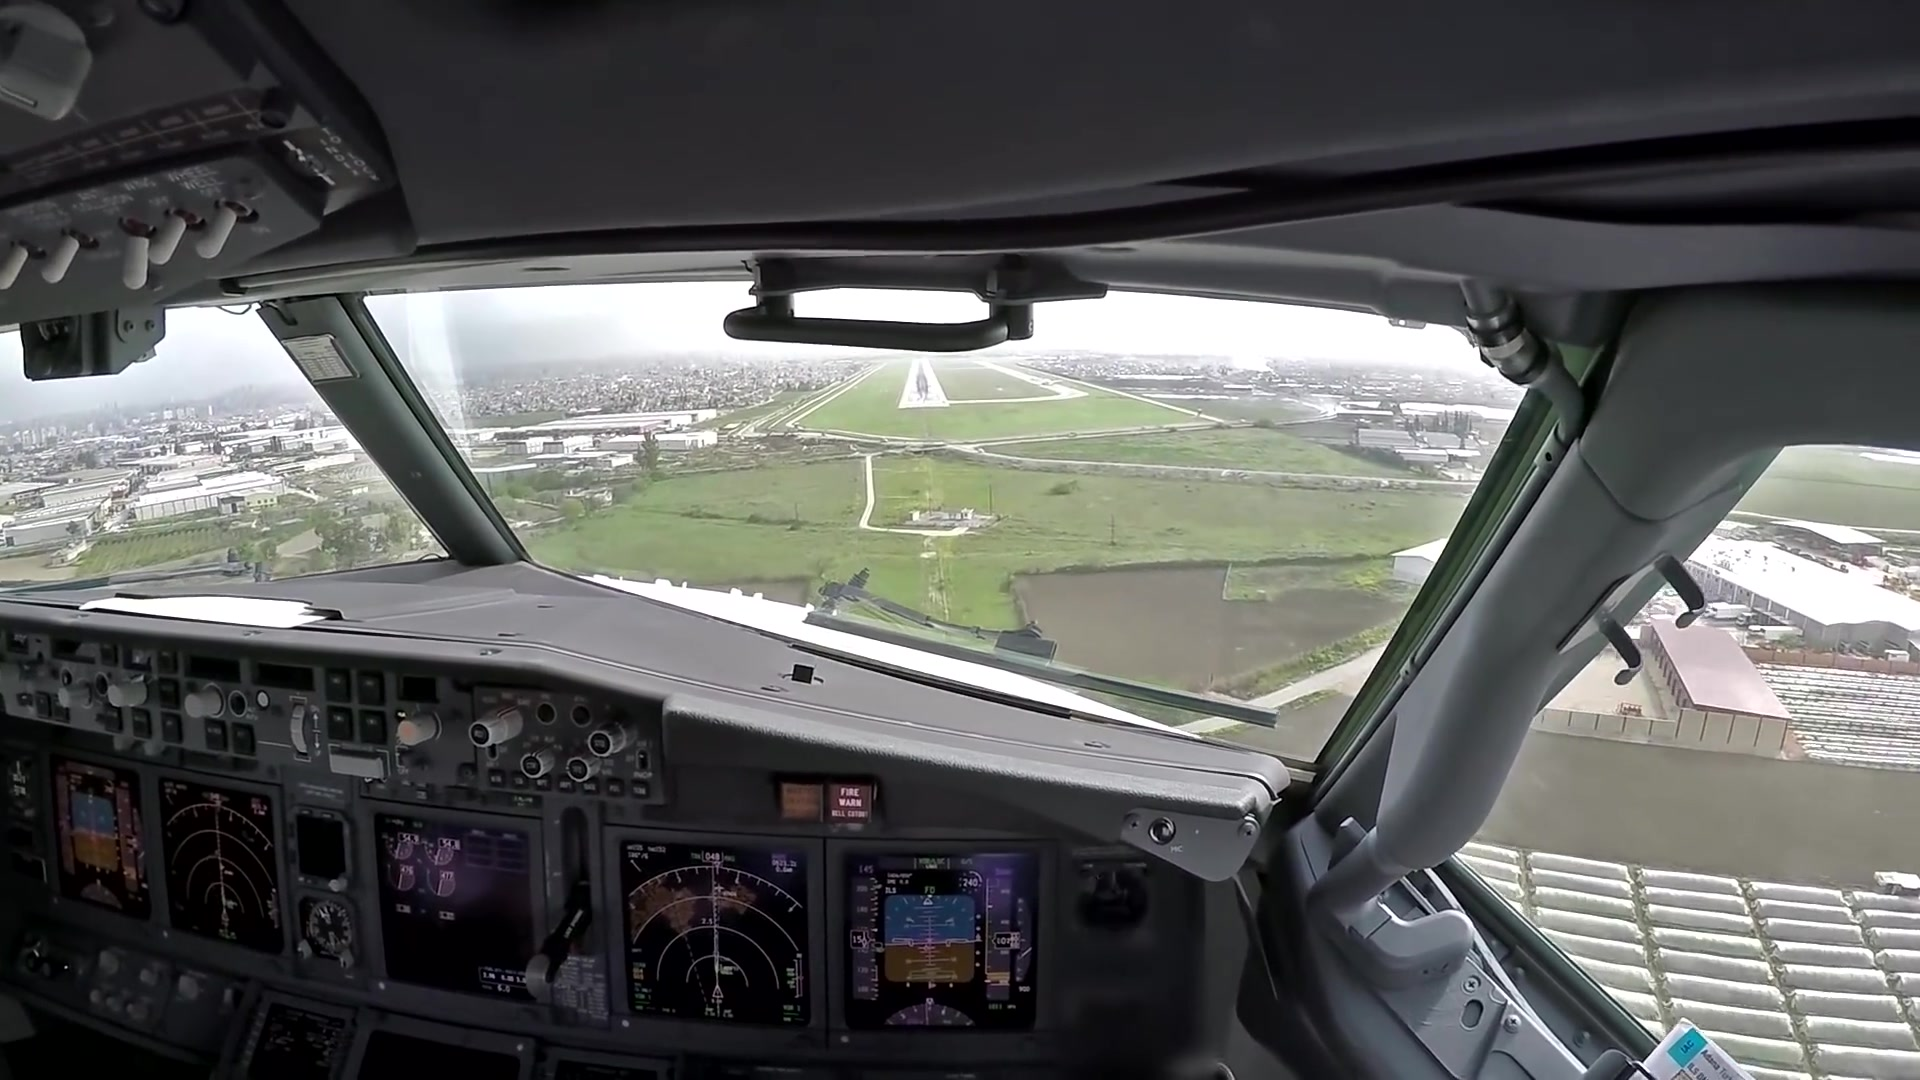runway: (895, 352, 949, 411)
